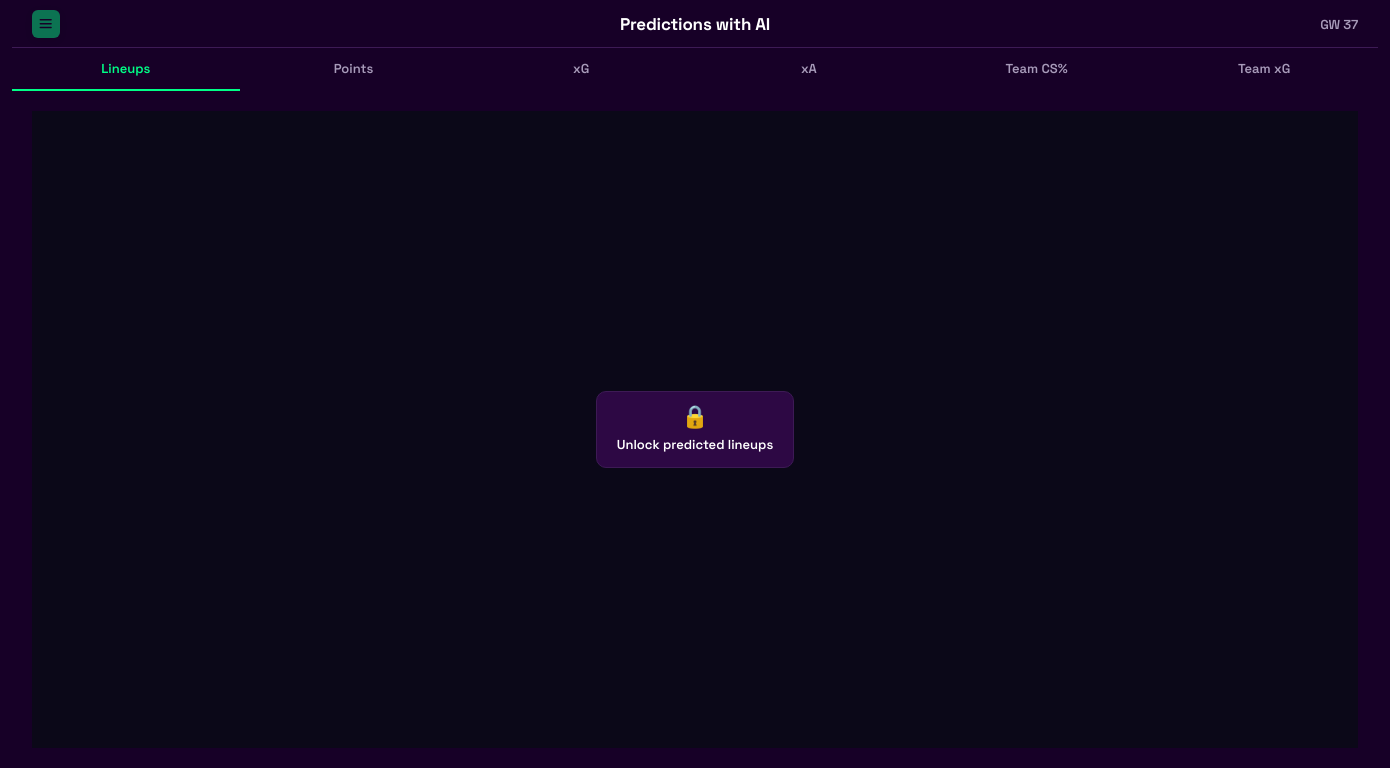
Test: PredictionsScreen › Points tab › shows top 2 players free and a lock overlay for free user
What coordinates should you click on to do the following:
click the tab "Points"
I would click on:
 (354, 70)
Its box is [240, 48, 467, 91].
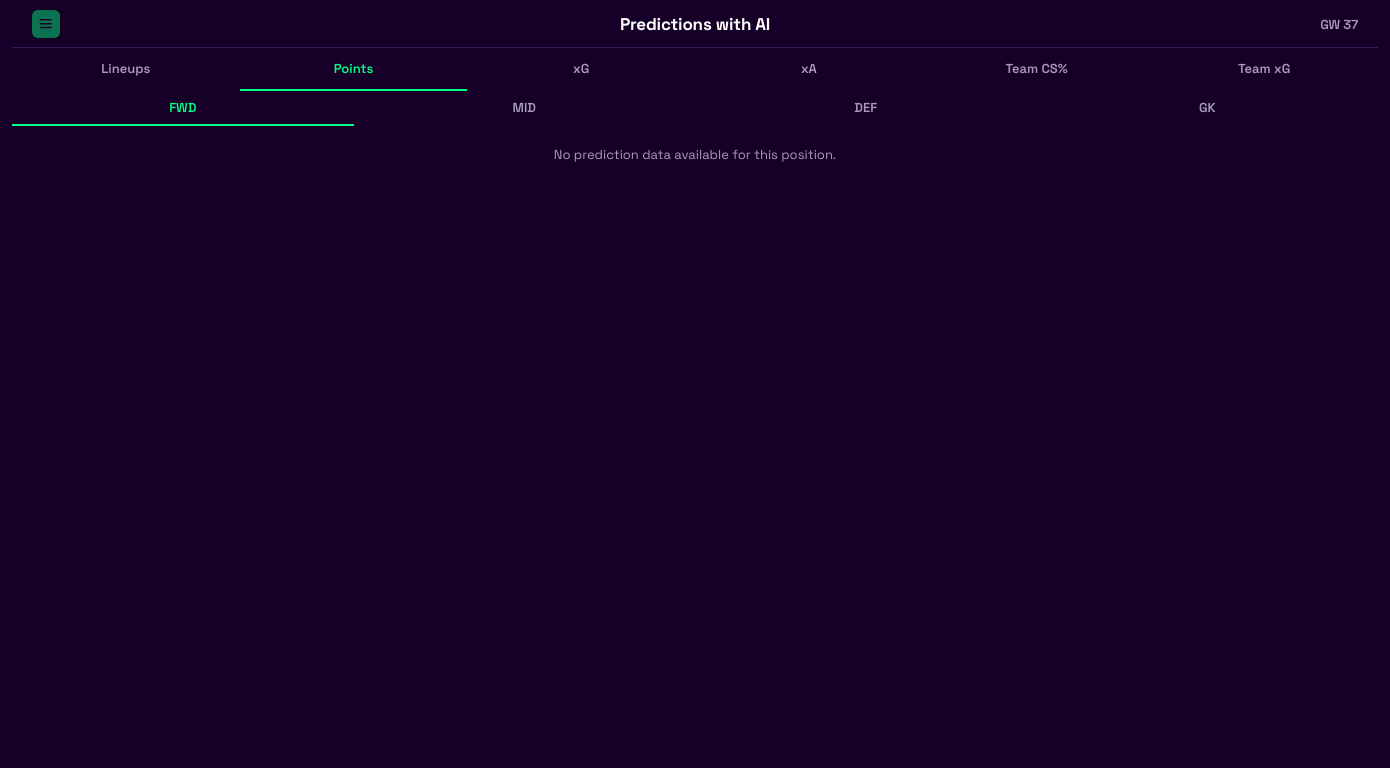
What coordinates should you click on to do the following:
click the tab "MID"
I would click on:
 (524, 108)
Its box is [354, 91, 695, 126].
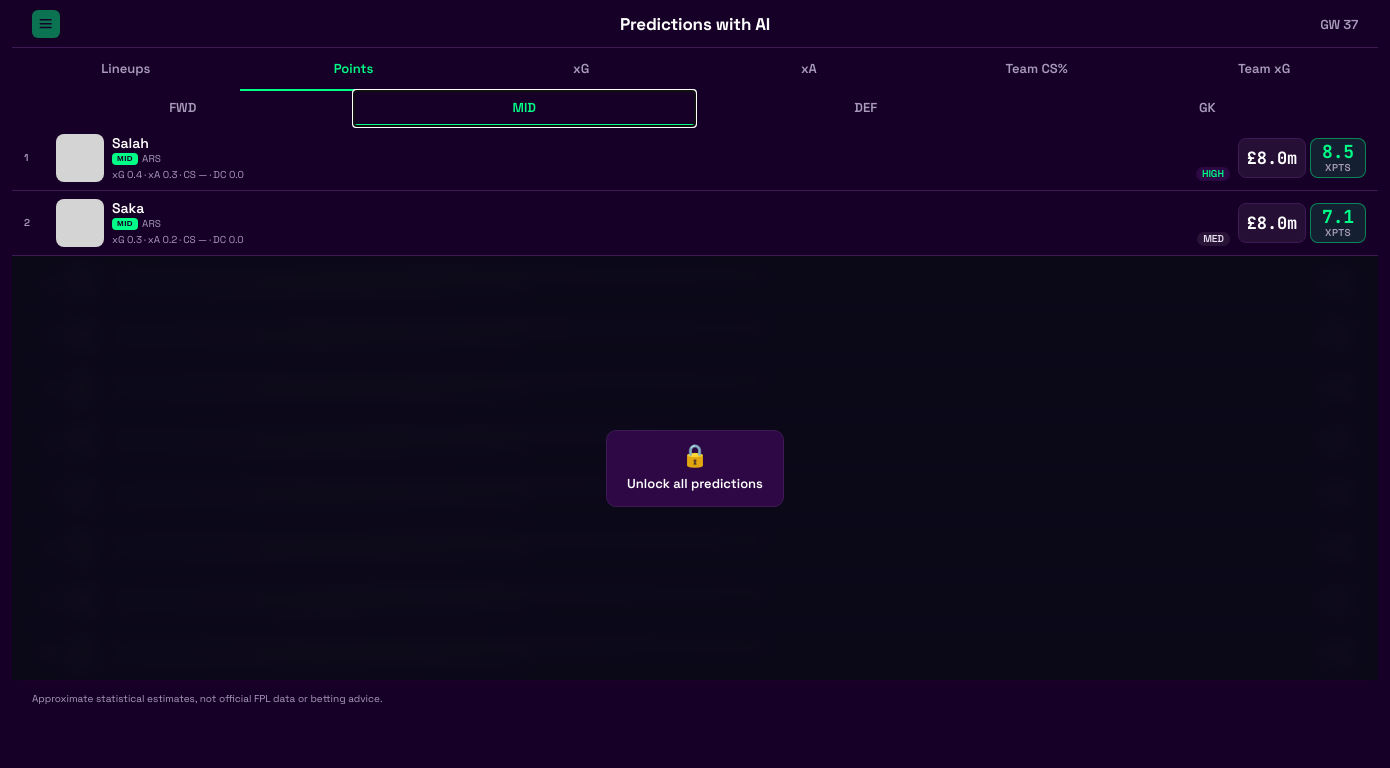
Now the text "Salah" is shown, box [112, 134, 149, 152]
Now the text "Saka" is shown, box [112, 199, 144, 217]
Now the text "Unlock all predictions" is shown, box [627, 474, 763, 492]
